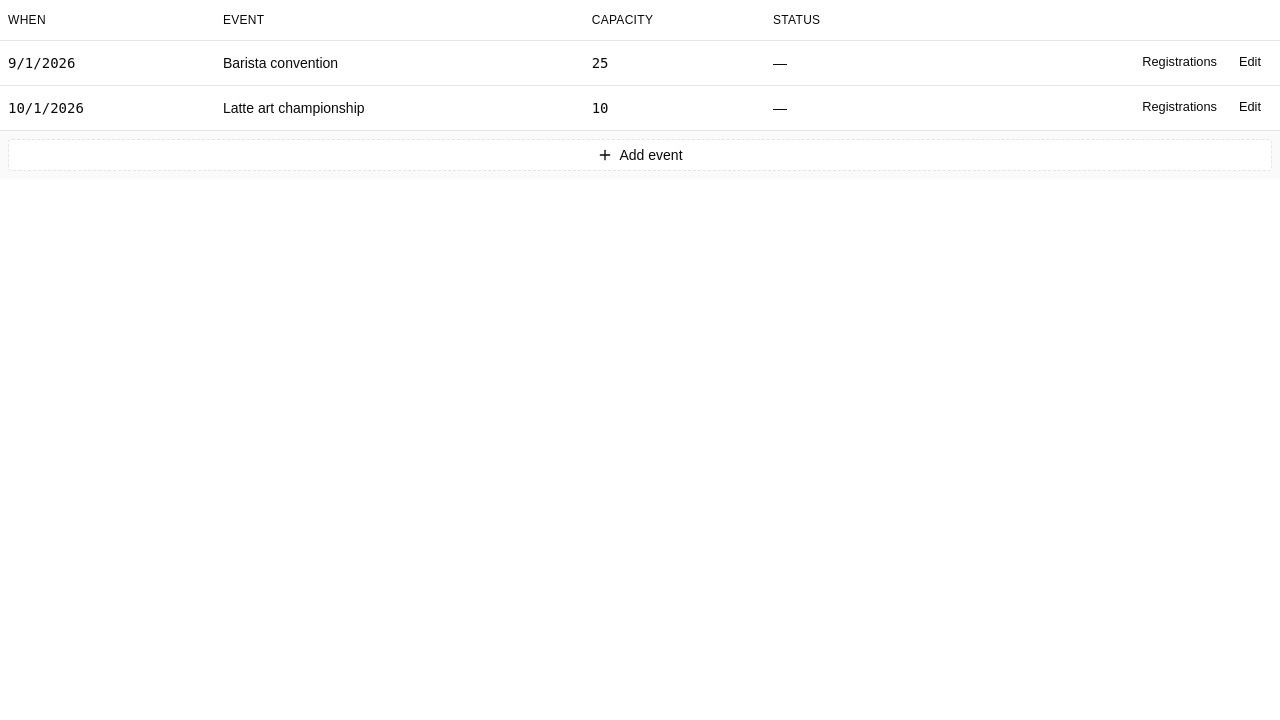
Test: EventBoard › opens that row’s registrations in a dialog
The width and height of the screenshot is (1280, 720).
Expected: the text "Barista convention" is shown, [215, 40, 584, 85]
Step 1. Click the button "Registrations" in the row of "9/1/2026" → (1180, 62), box [1131, 48, 1228, 76]
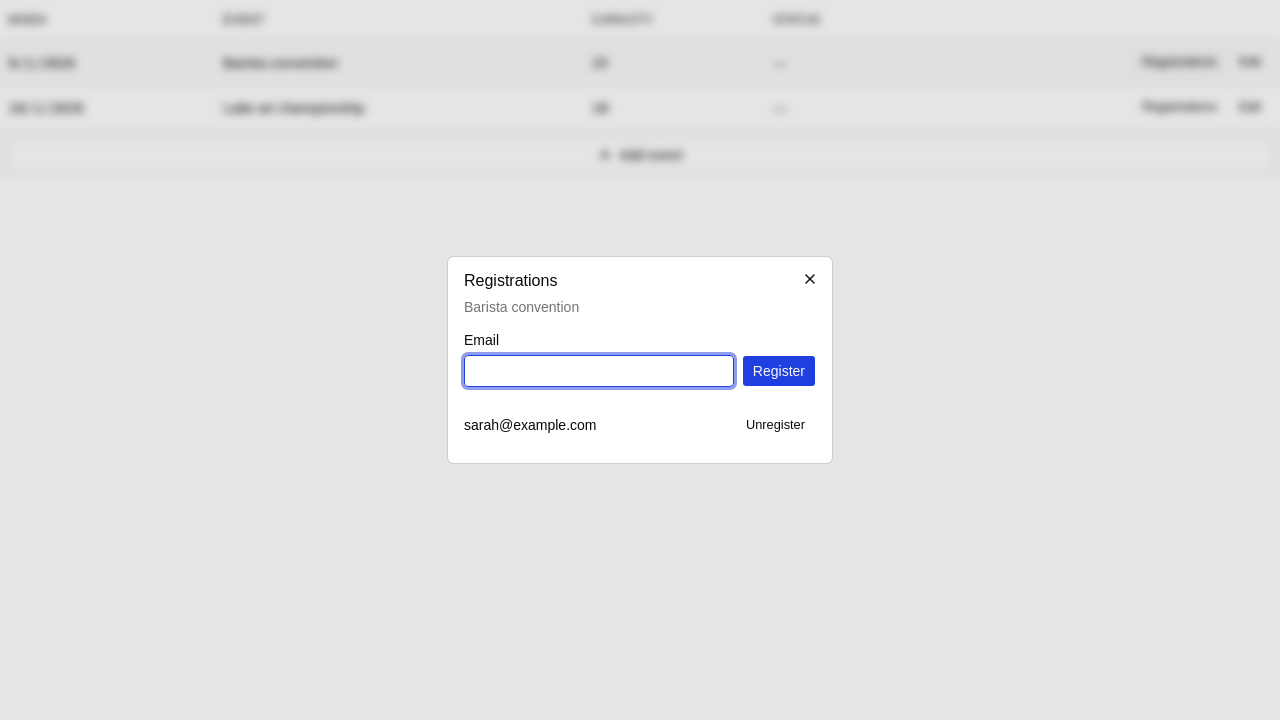
Now the text "sarah@example.com" is shown, box [464, 415, 596, 435]
